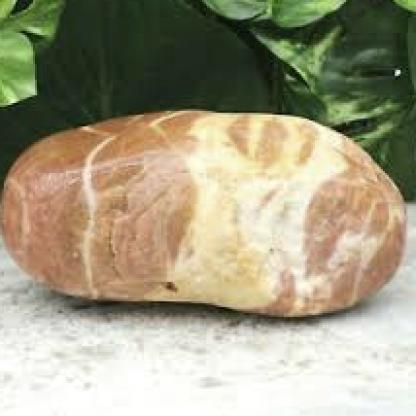Metamorphic_Quartize: (2, 101, 410, 331)
